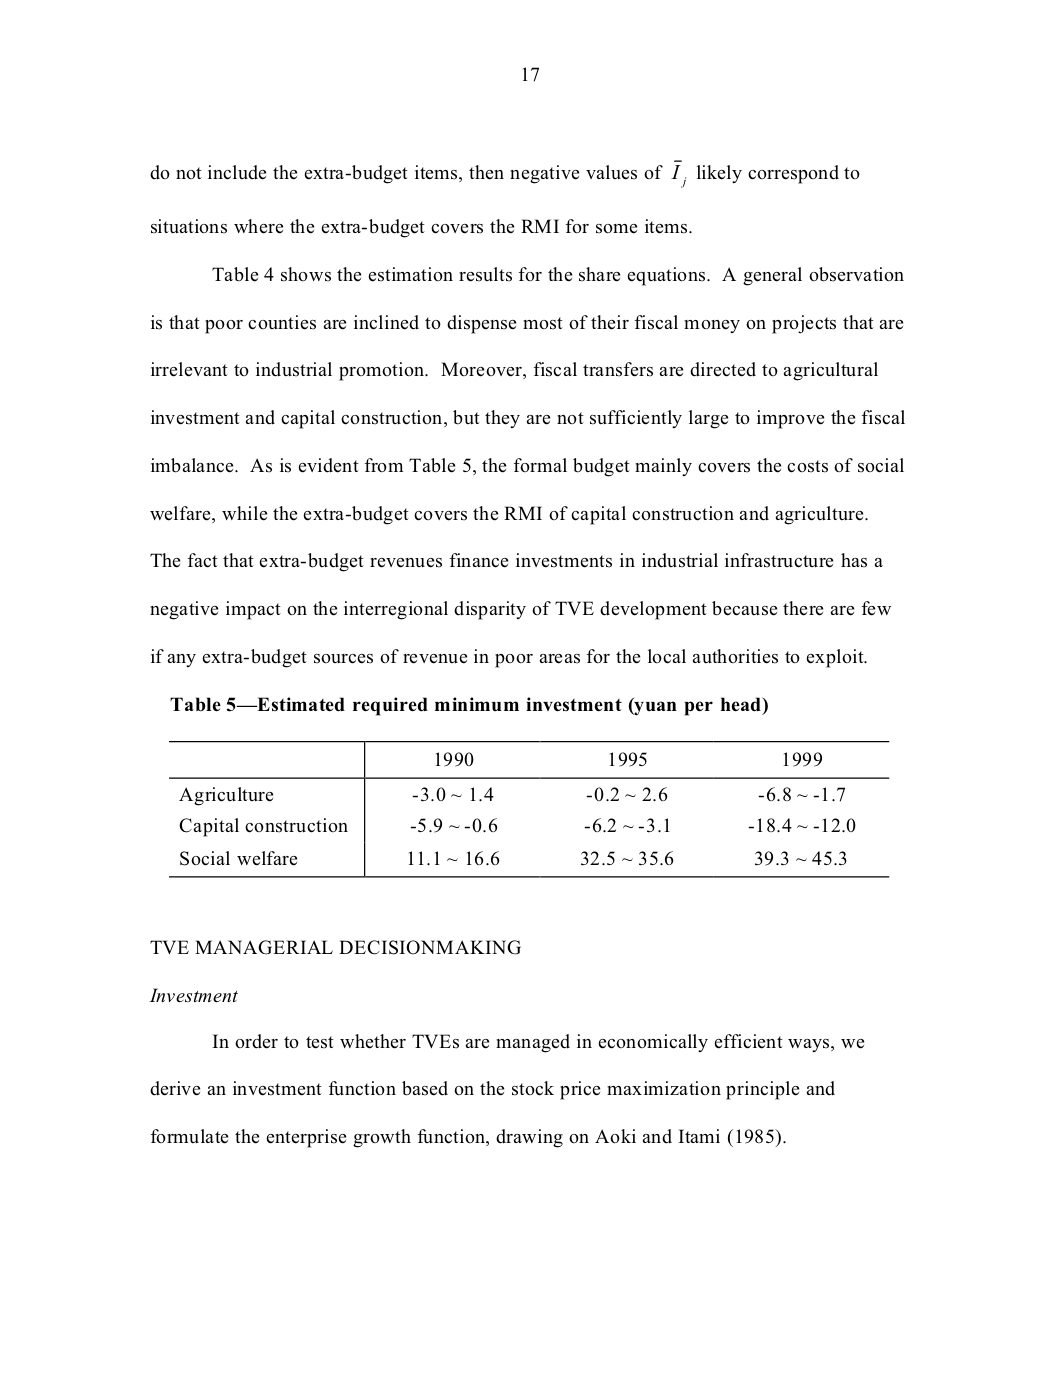Table: (169, 740, 889, 878)
